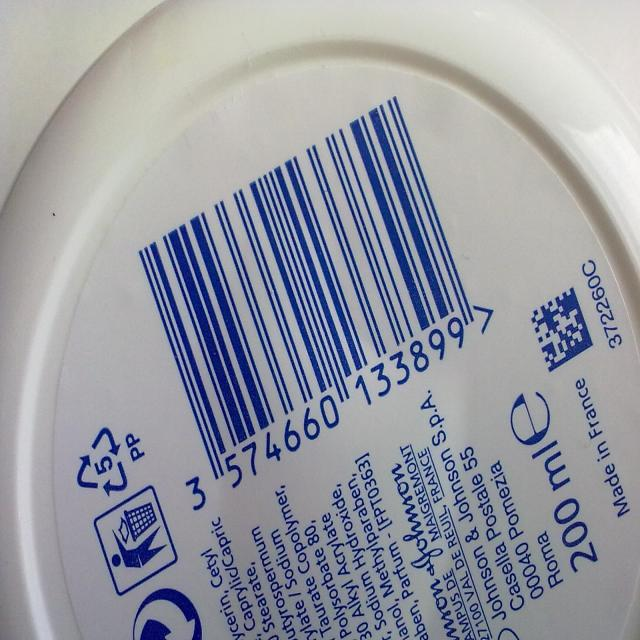barcode: (140, 97, 494, 492), (180, 475, 216, 520)
